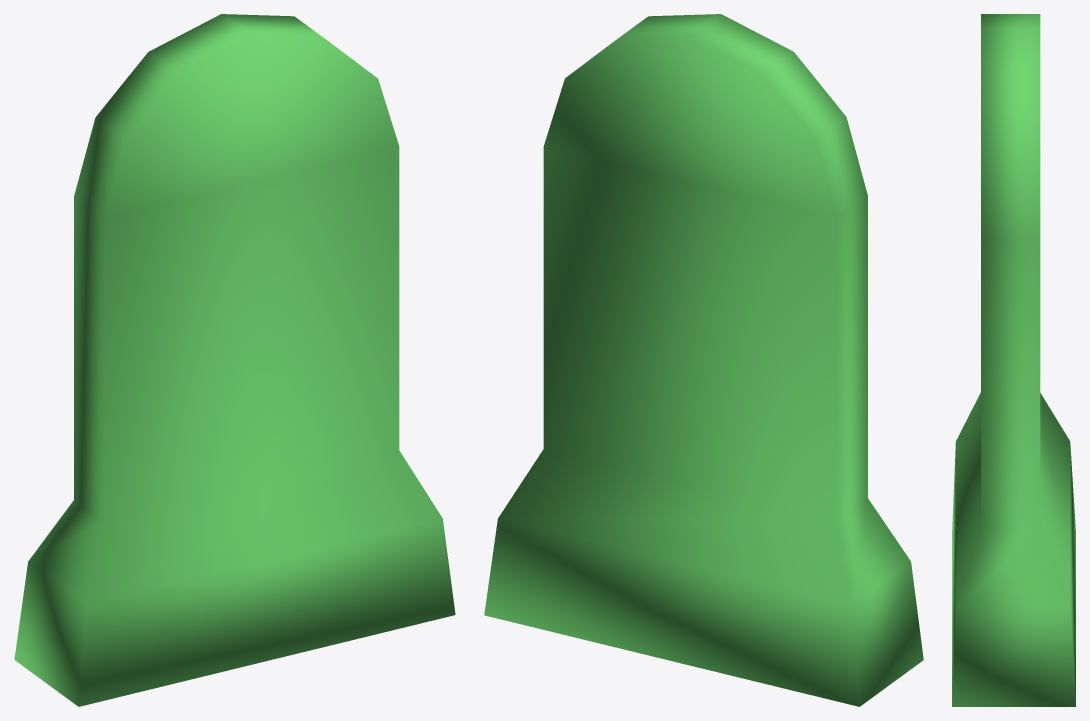
Rendered from UCX_grave_cross_3.fbx.
3 views of the same model, side by side, from view 1: azimuth 30°, elevation 25°; view 2: azimuth 150°, elevation 25°; view 3: azimuth 270°, elevation 25° (orthographic). The views are drawn at different scales.
Parts seen in each view (by area): view 1: UCX_grave_cross_3; view 2: UCX_grave_cross_3; view 3: UCX_grave_cross_3.
Boxes of the visible parts, left/top/right/bottom form: UCX_grave_cross_3: left=14, top=14, right=455, bottom=706; UCX_grave_cross_3: left=484, top=14, right=923, bottom=706; UCX_grave_cross_3: left=952, top=14, right=1075, bottom=706.
Bounding box in the file's own units: 0.7808 × 1.21 × 0.2309.
